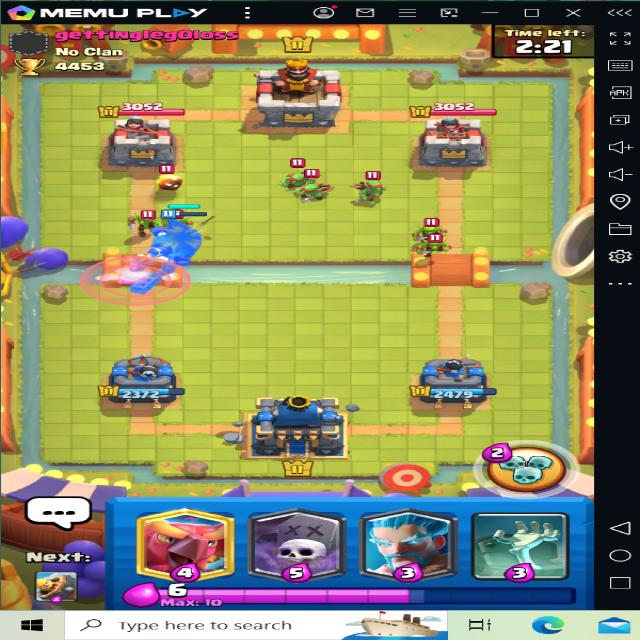fire-spirit: (150, 172, 199, 199)
goblin: (127, 208, 162, 236), (413, 212, 444, 241), (417, 236, 456, 257)
spear-goblin: (356, 167, 404, 205), (296, 175, 344, 211), (282, 163, 316, 194)
